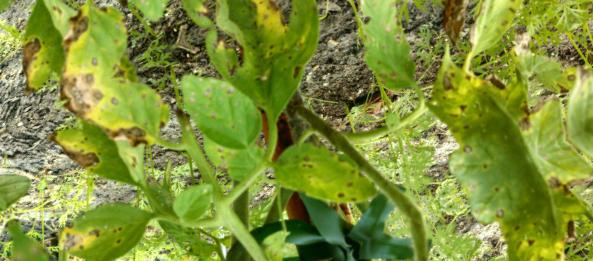Tomato Septoria leaf spot: (401, 31, 542, 188), (265, 116, 377, 232), (66, 61, 180, 172), (168, 51, 275, 167), (43, 103, 151, 212), (329, 0, 436, 100), (41, 178, 160, 261), (430, 0, 567, 61)
